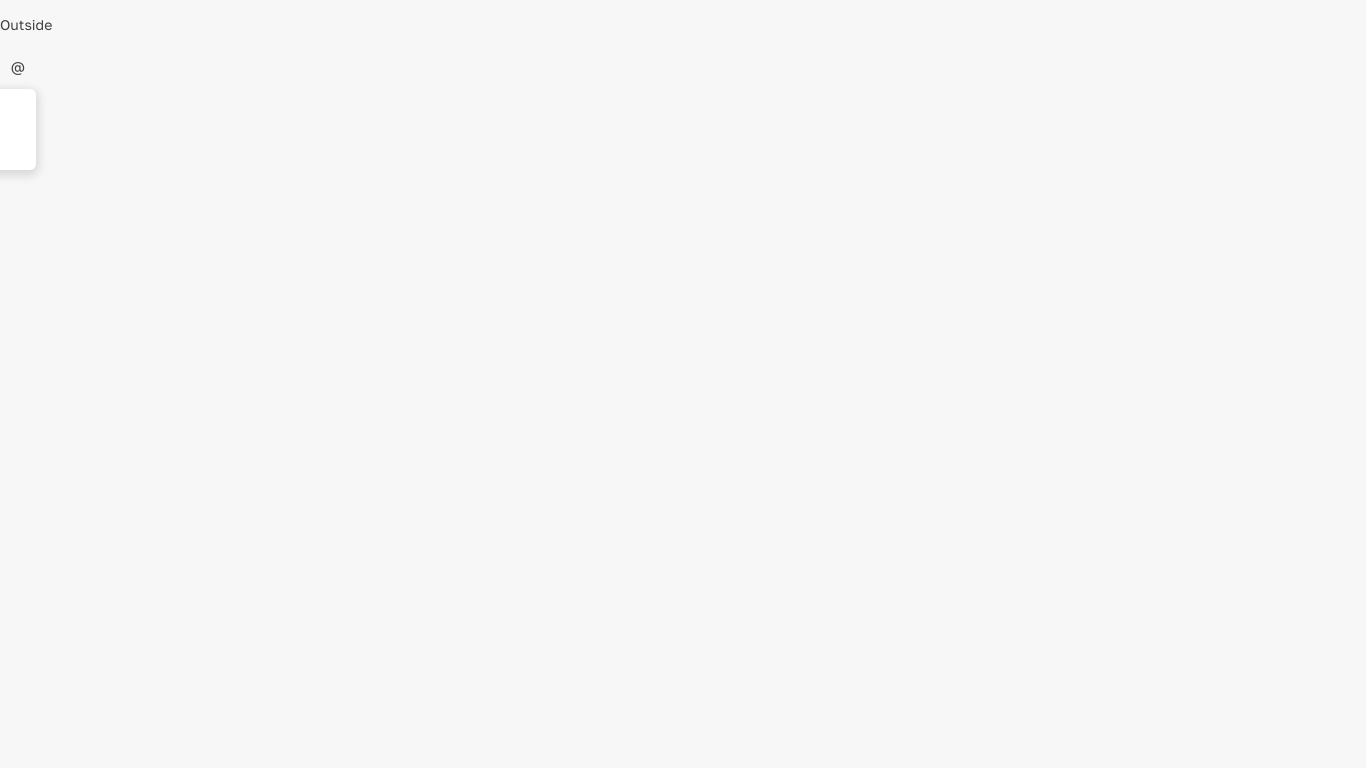
Scenario: IconPopover › closes by a press outside, but not by one inside
The width and height of the screenshot is (1366, 768).
Earlier steps of the test are not shown.
Step 1. Click the text "Outside" → (26, 24), box [0,16,52,33]
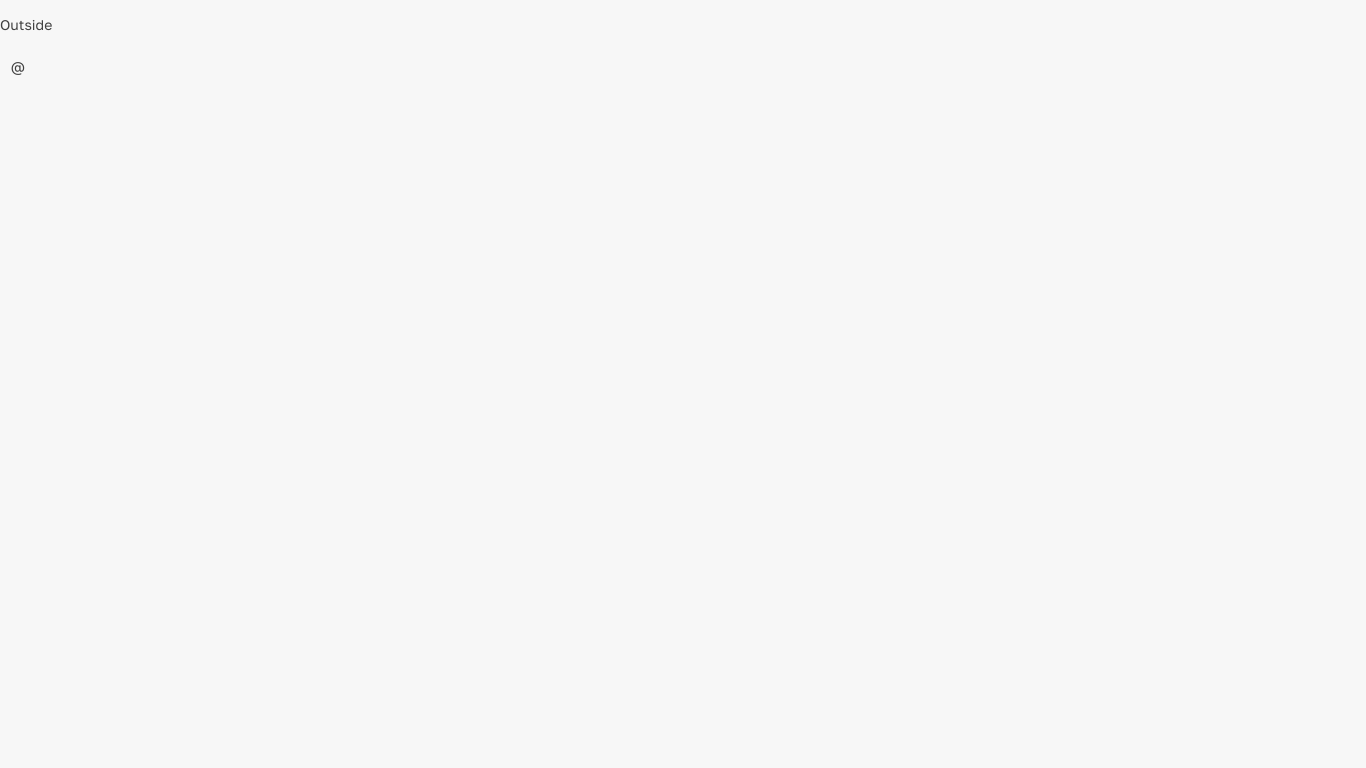
Result: the dialog is gone
